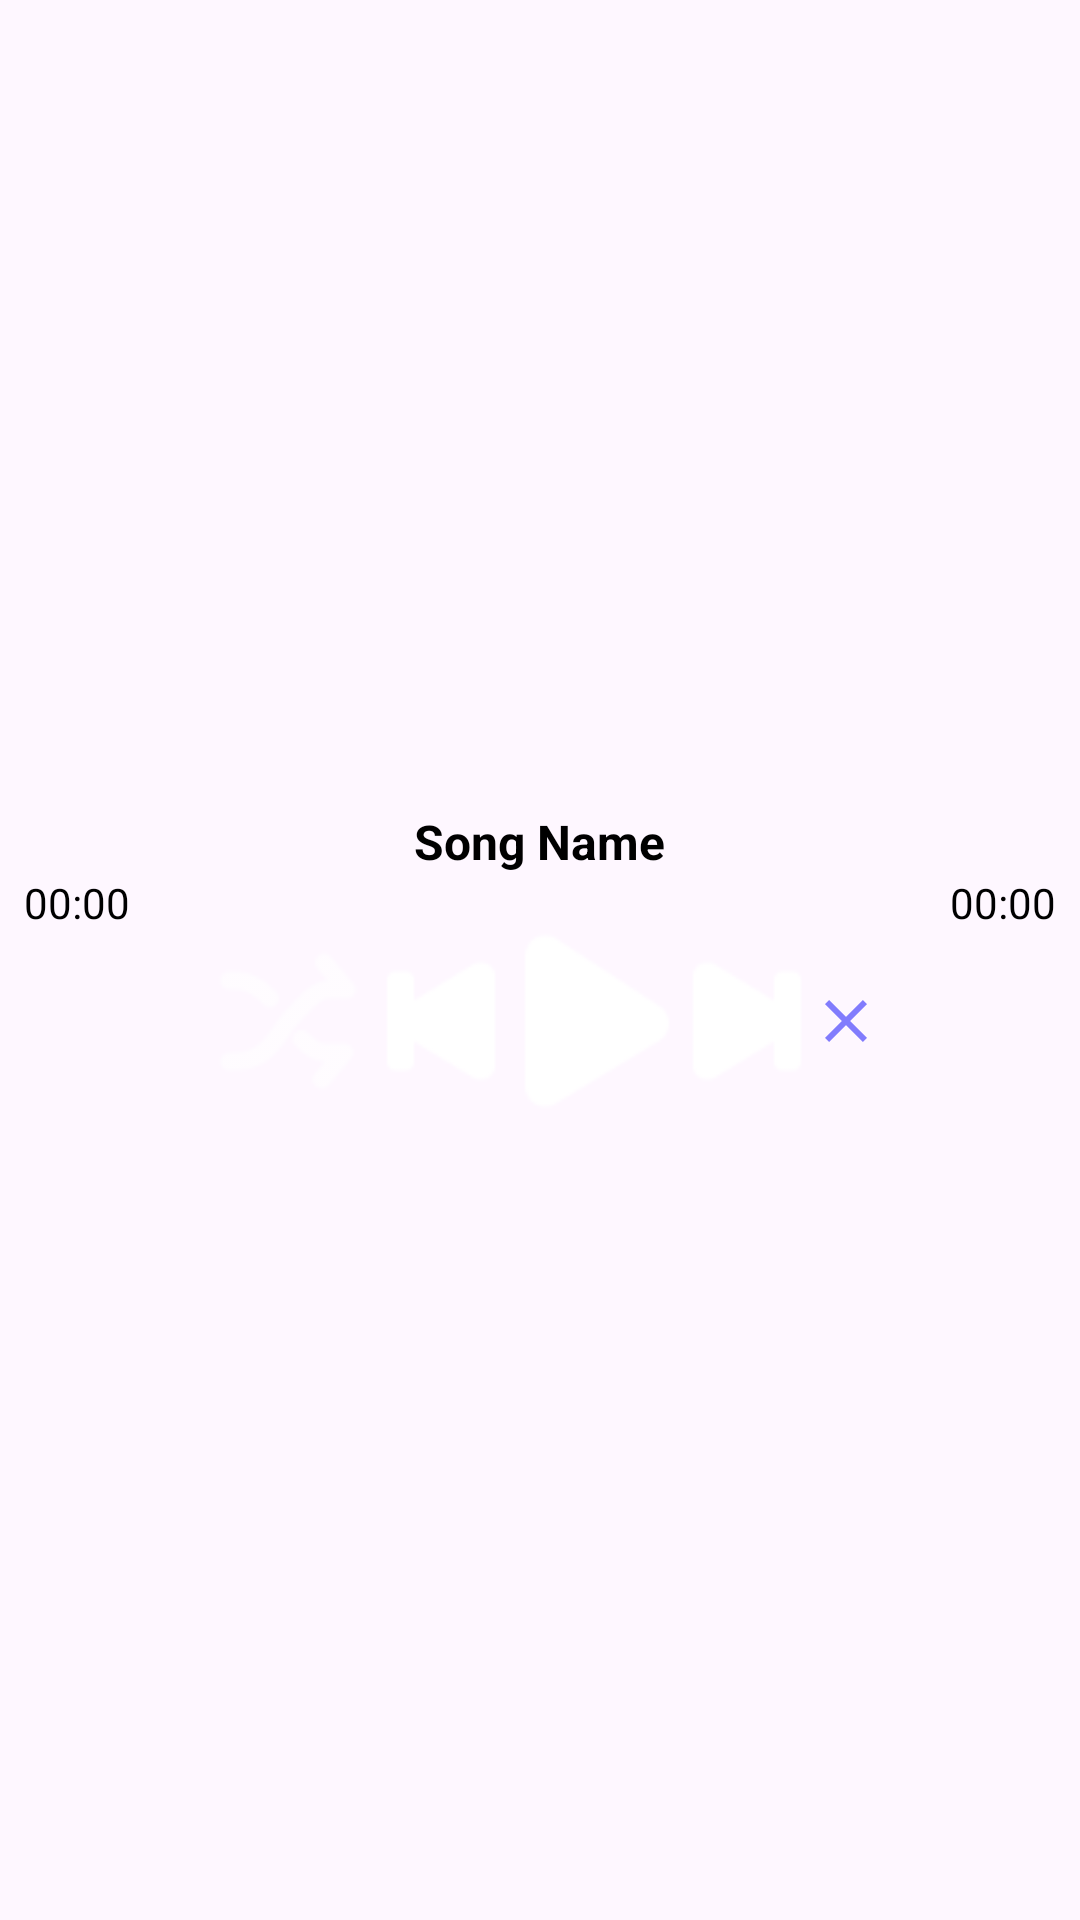

Locate icon controls on the screen. Image size 1080px x 1920px, boxes as bbox=(x1, y1, x2, y2).
关闭: bbox=(825, 1000, 867, 1042)
